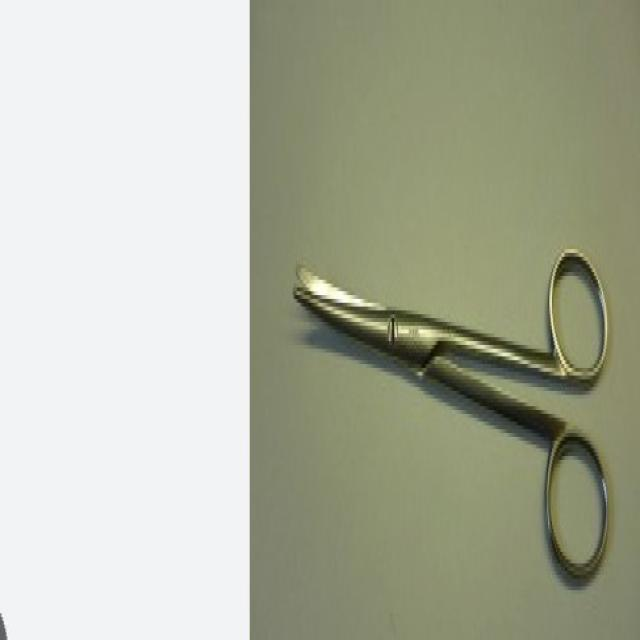Curved Mayo: (290, 192, 615, 594)
